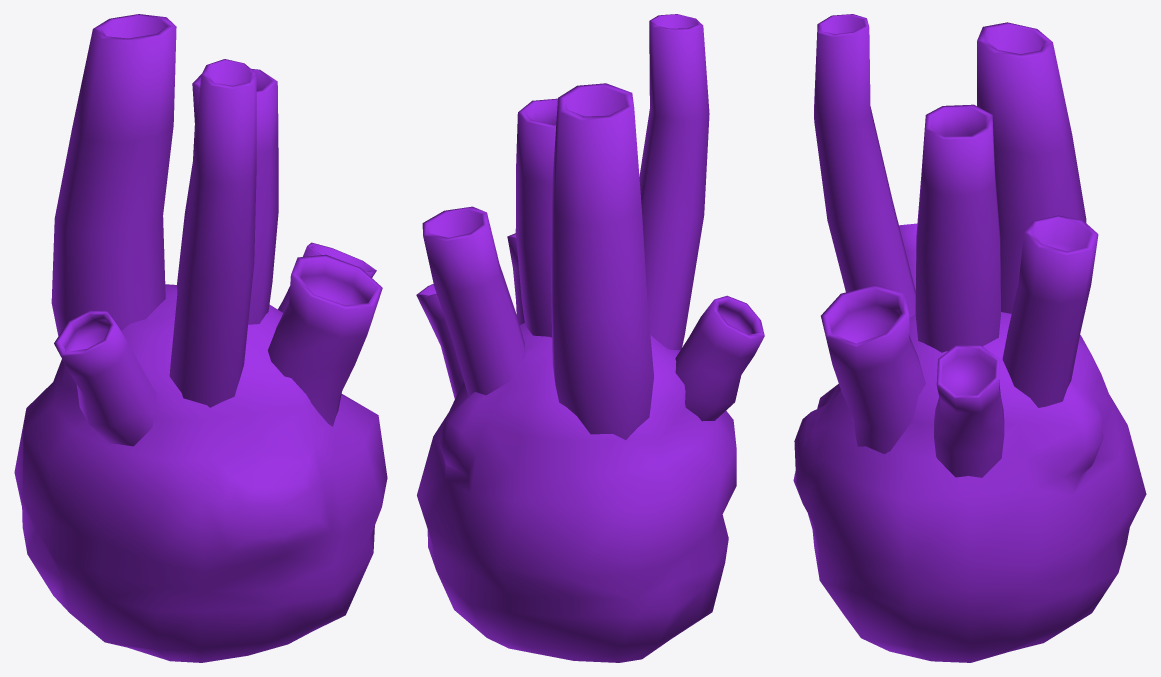
File: M_TubeCoral.fbx
3 renders of one model, left to right at view 1: azimuth 30°, elevation 25°; view 2: azimuth 150°, elevation 25°; view 3: azimuth 270°, elevation 25°, orthographic. The views are drawn at different scales.
Parts seen in each view (by area): view 1: tubecoral; view 2: tubecoral; view 3: tubecoral.
Boxes of the visible parts, x1,y1,x2,y2 form: tubecoral: (14, 14, 387, 662); tubecoral: (416, 14, 764, 662); tubecoral: (793, 14, 1146, 662).
Size of the model in its own units: 10.85 by 18.56 by 10.26.
